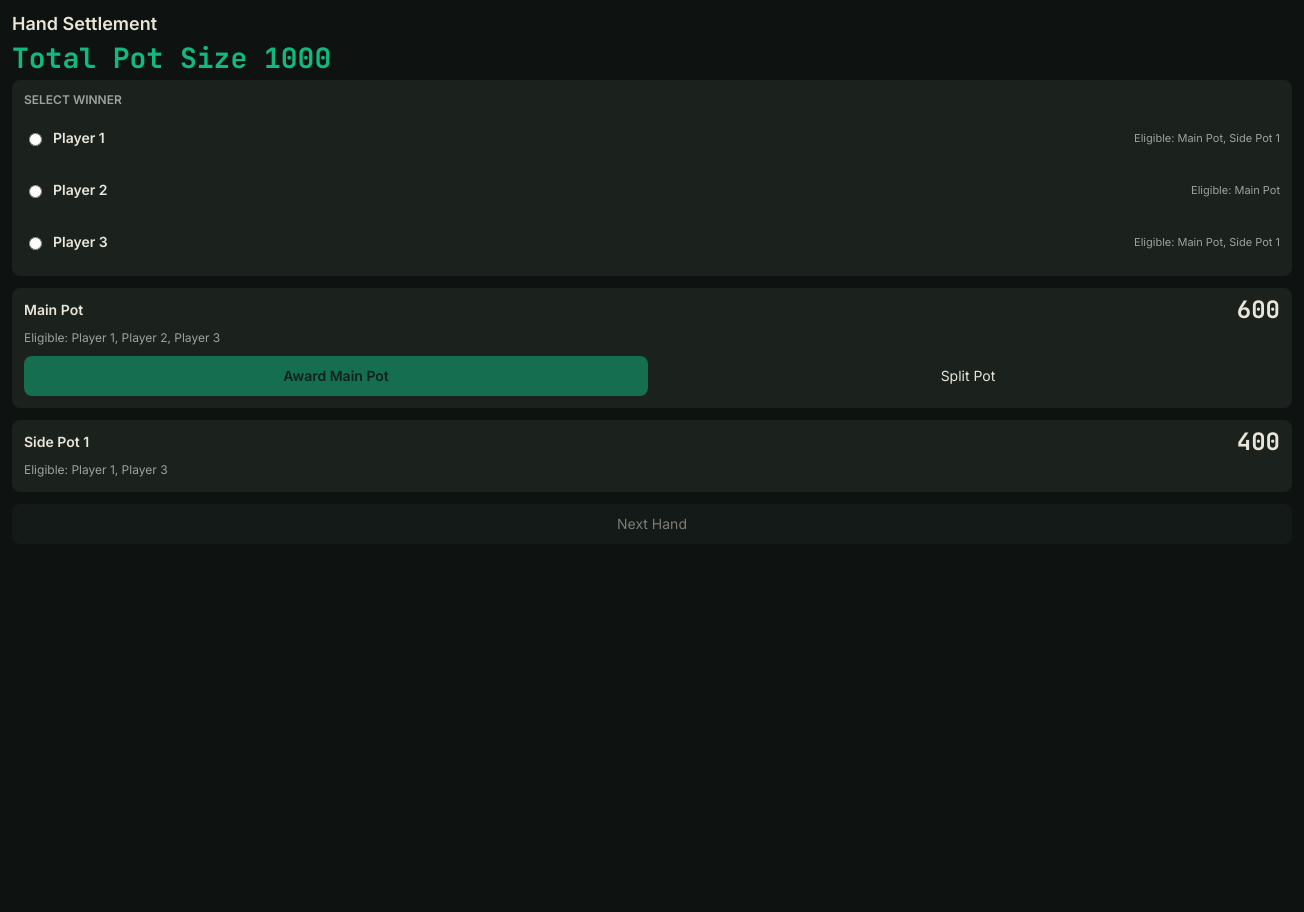
Test case: SettlementScreen › selecting players auto-allocates the pot evenly and zeroes remaining immediately
Step 1. Click the button "Split Pot" → click(968, 376), box [656,356,1280,396]
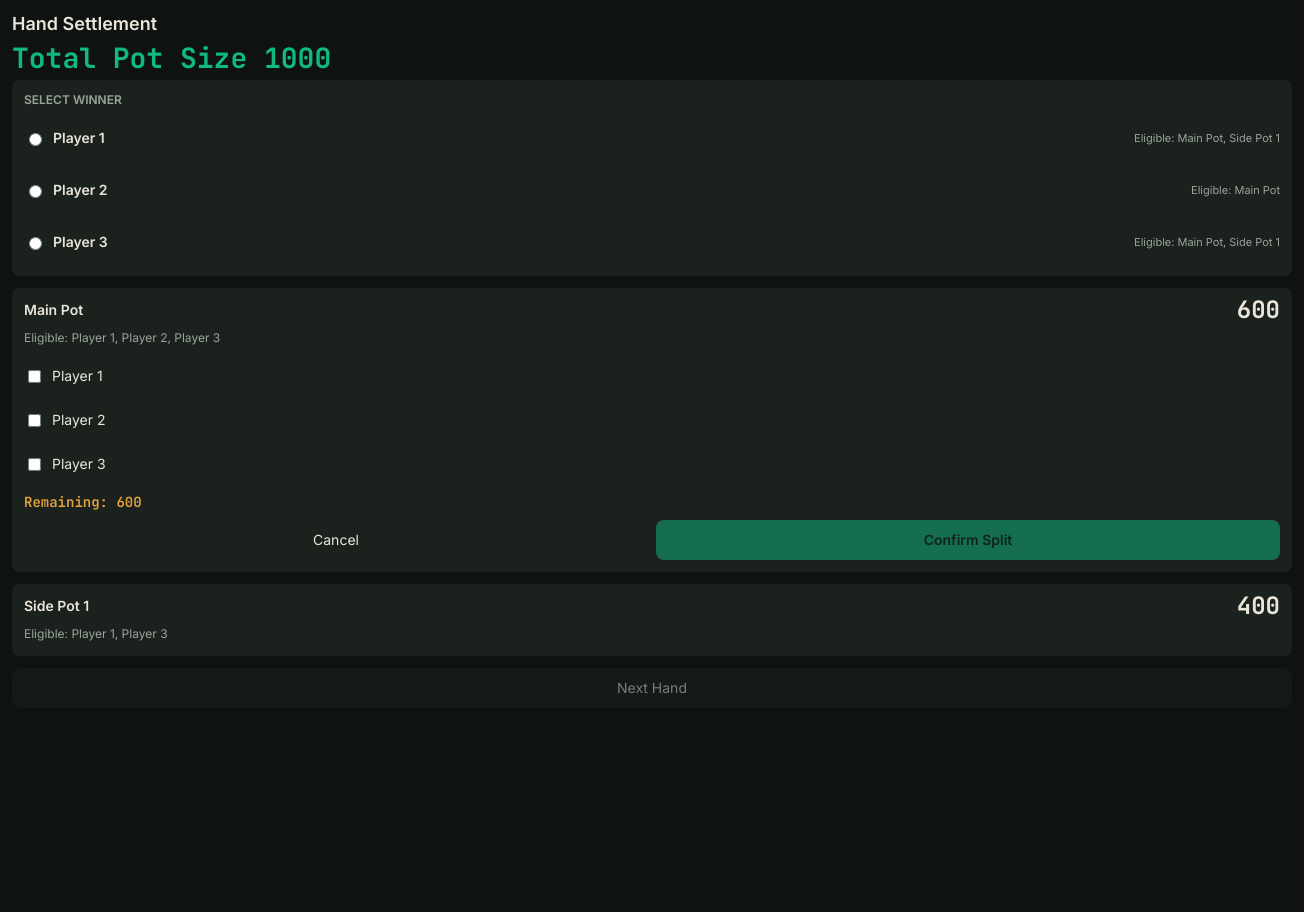
Step 2. Click the checkbox labelled "Player 1" → click(34, 376), box [28,370,41,382]
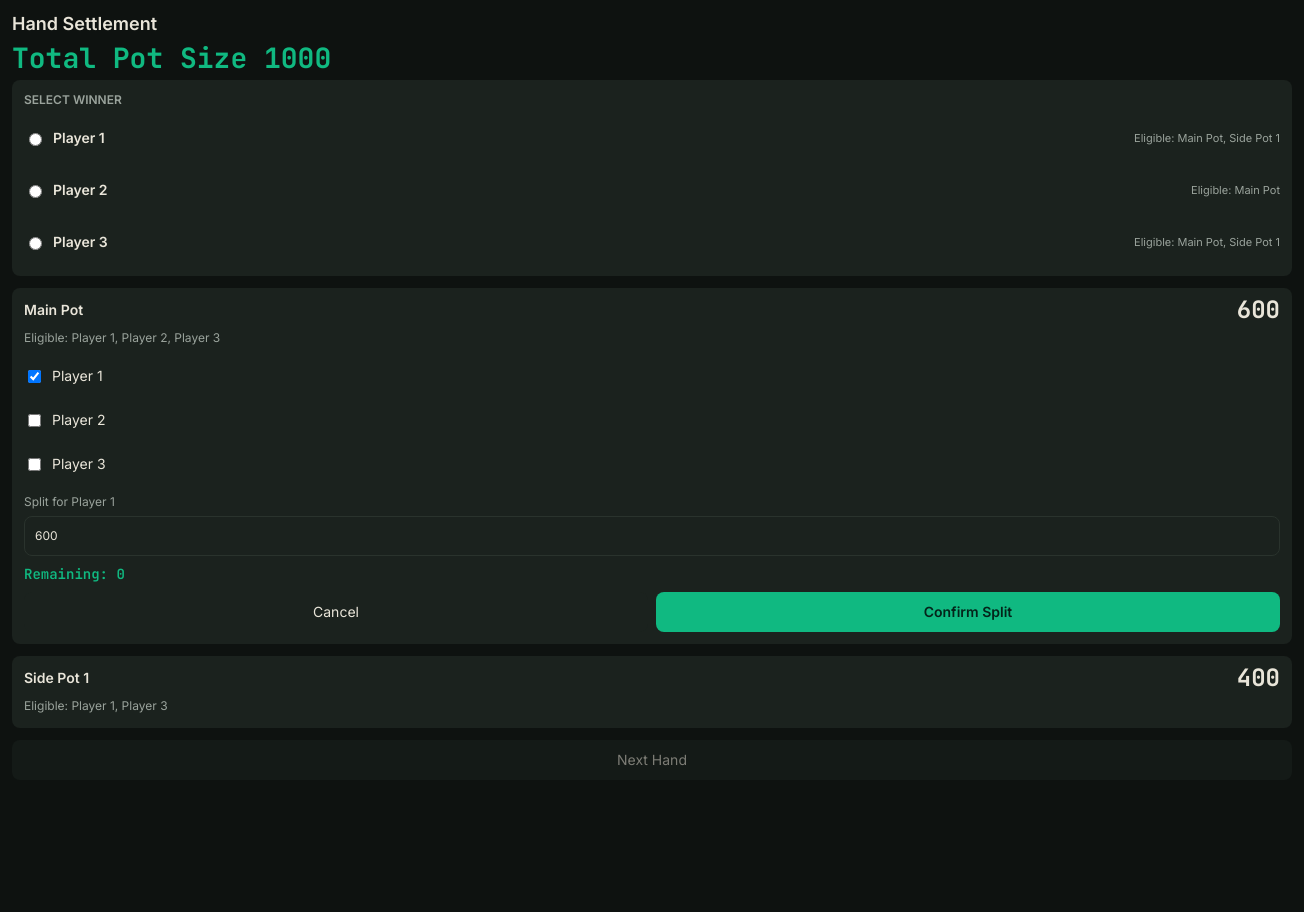
Step 3. Click the checkbox labelled "Player 2" → click(34, 420), box [28,414,41,426]
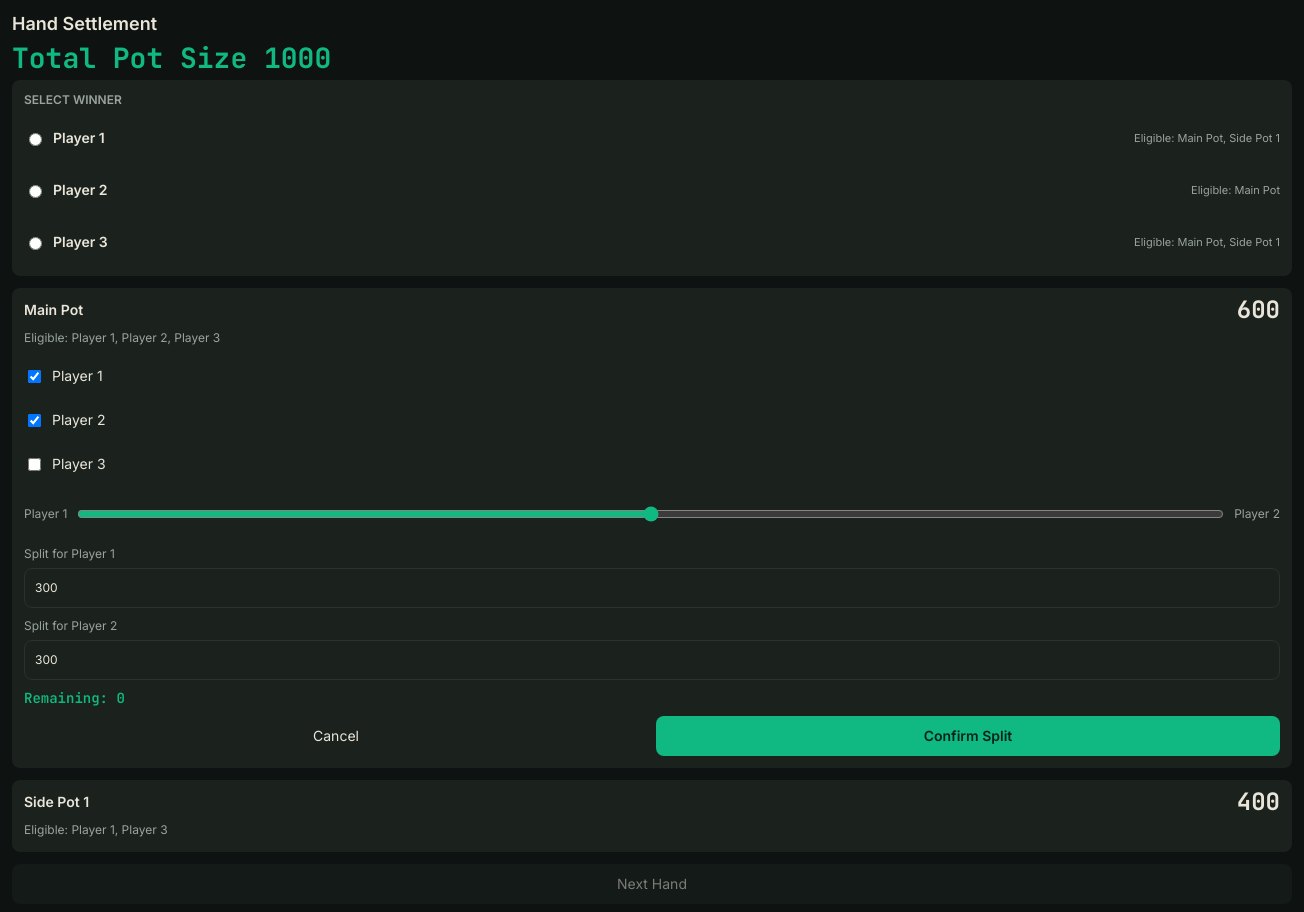
Expected: the text "Remaining: 0" is shown, [24,689,125,707]
Expected: the number field labelled "Split for Player 1" holds "300", [24,568,1280,608]
Expected: the number field labelled "Split for Player 2" holds "300", [24,640,1280,680]
